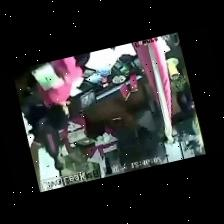person: (37, 53, 89, 129)
